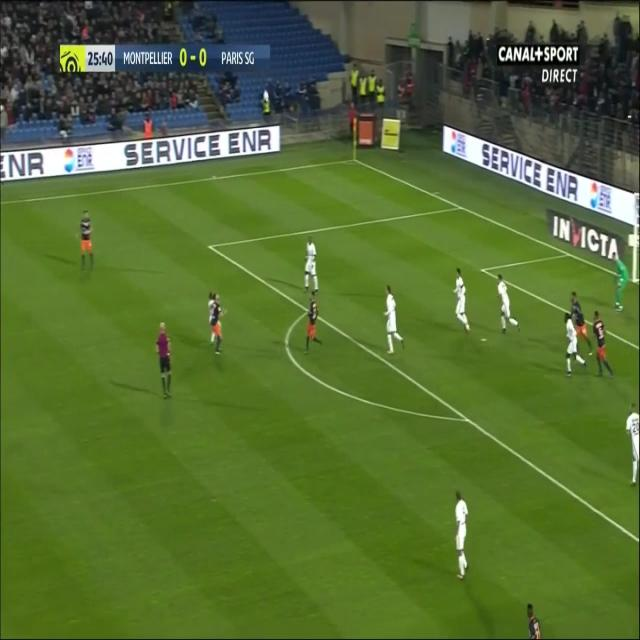Ball: (262, 83, 270, 104)
Goalkeeper: (611, 250, 631, 312)
Player: (592, 308, 618, 383), (452, 484, 471, 583), (562, 311, 588, 383), (494, 271, 521, 339), (72, 208, 96, 280), (382, 281, 404, 359), (452, 264, 474, 336), (302, 290, 324, 359), (623, 398, 640, 485), (569, 287, 592, 349), (208, 291, 228, 360), (300, 236, 321, 299), (522, 596, 544, 640)
